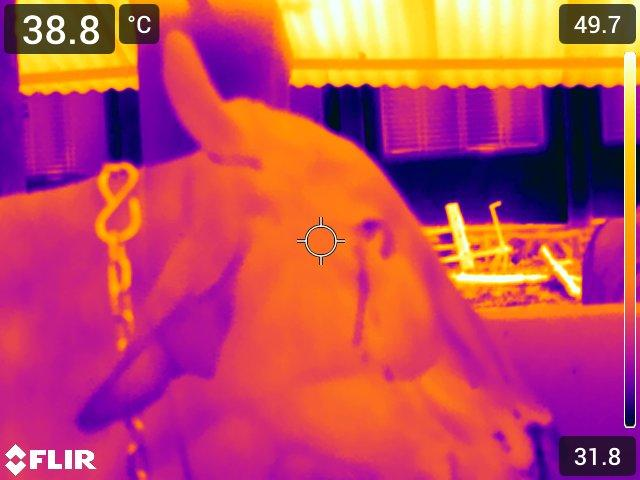ear: (79, 236, 256, 435)
eyes: (347, 214, 398, 248)
